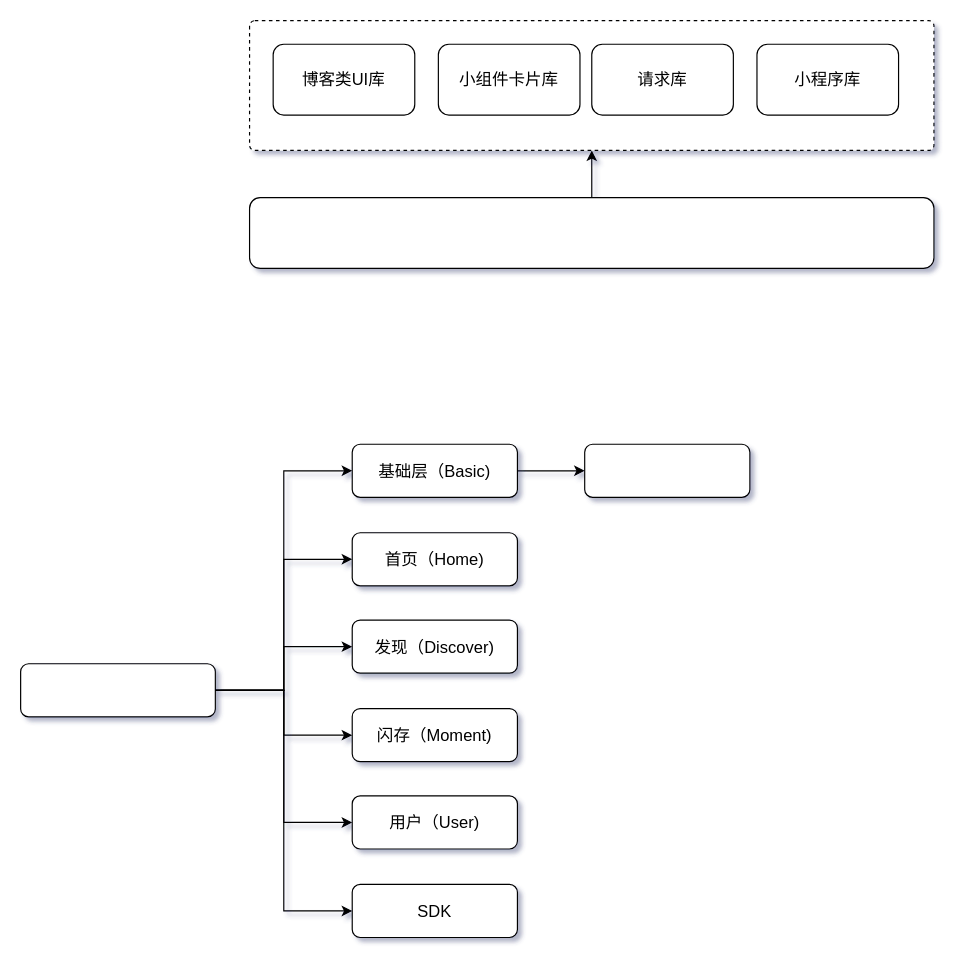
Some shapes in this 962 by 965 pixel diagram are drawn without their labels. Each missing label, with the centre of its shape:
博客园APP: the point at 591,232
博客园（APP） 业务模块: the point at 117,690
第三方库: the point at 667,470
